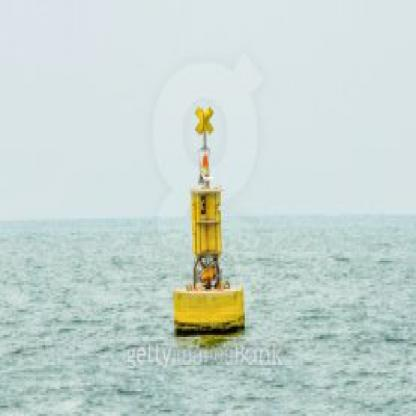buoy: (162, 94, 248, 339)
